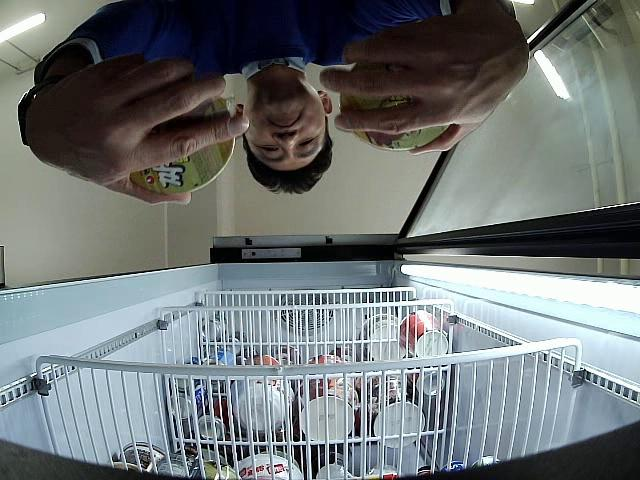00_hand: (31, 55, 252, 205), (318, 15, 529, 155)
04_chapagetti_S: (130, 94, 235, 195), (340, 62, 451, 151)
